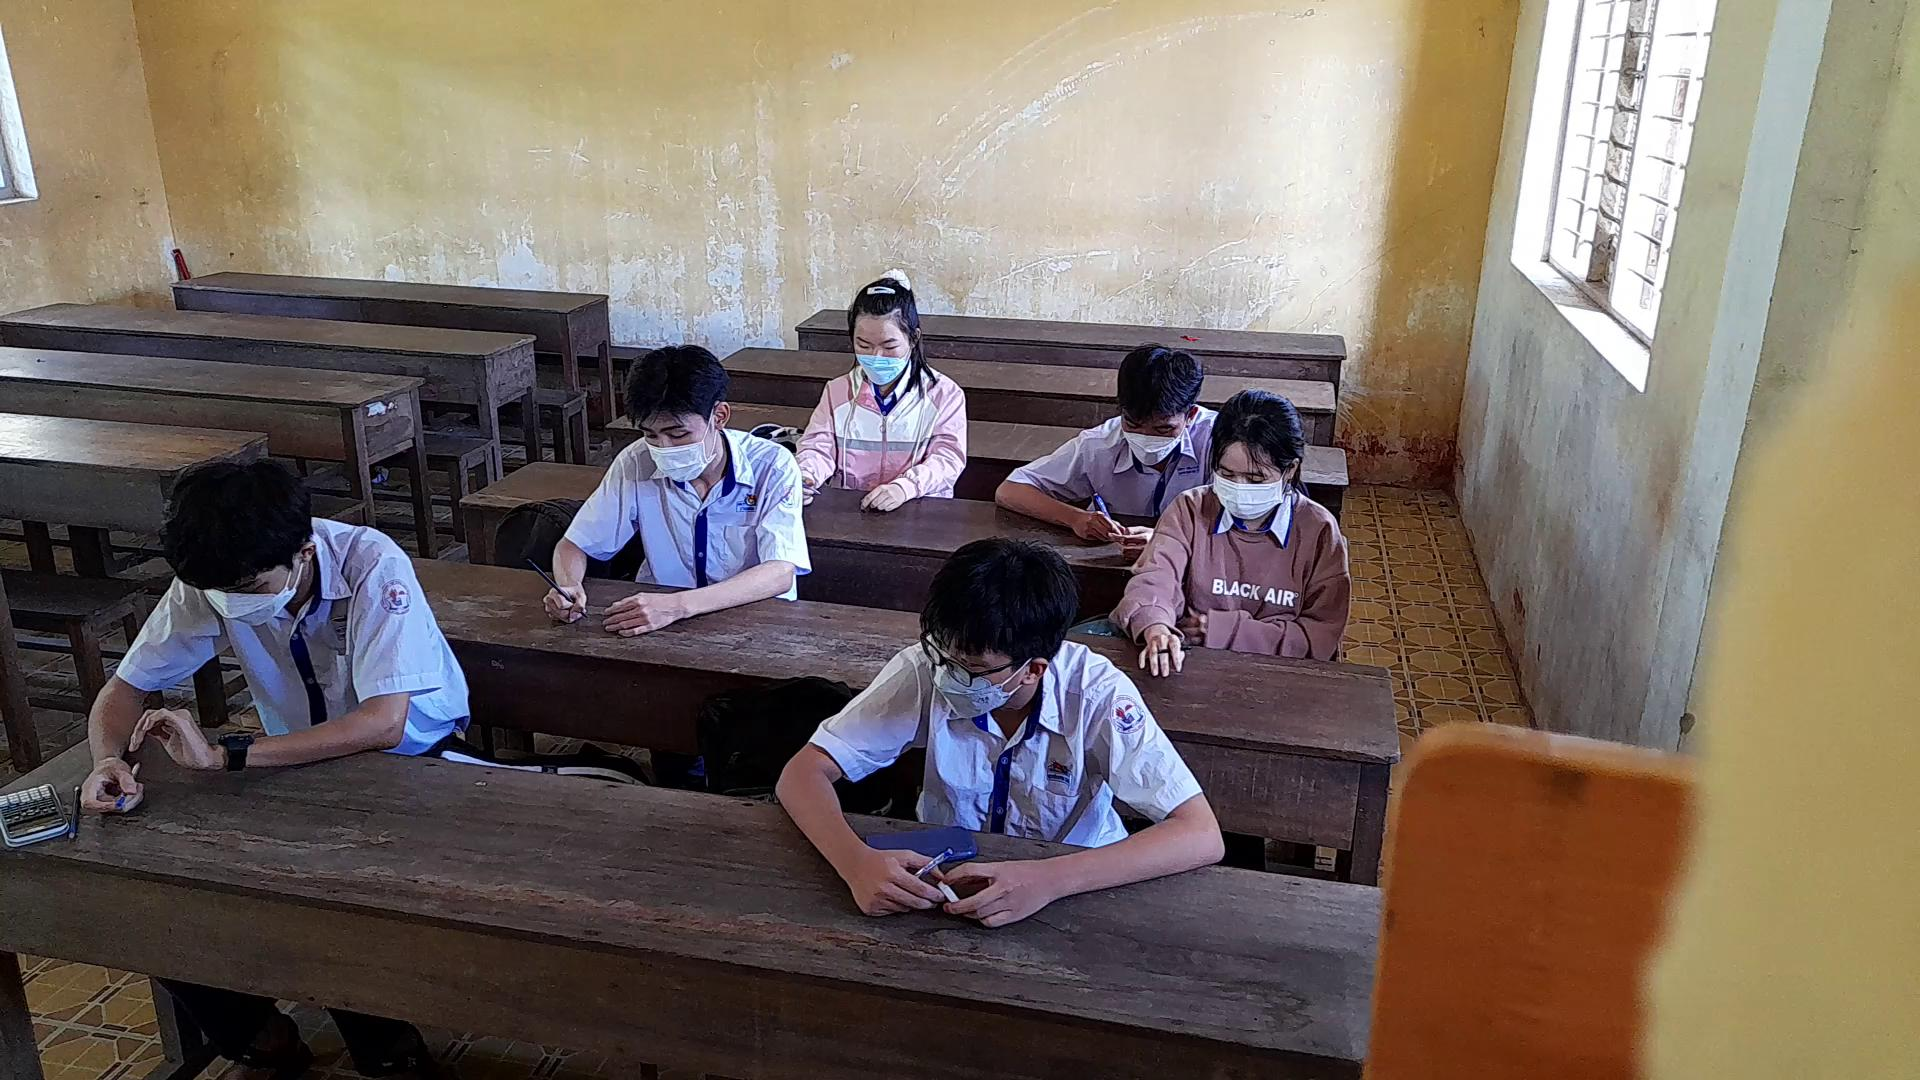Hand Under Table: (1183, 538, 1358, 661)
Look Around: (898, 522, 1087, 717)
Normal: (66, 434, 483, 825), (520, 332, 804, 636), (783, 256, 978, 514), (996, 330, 1209, 539)
